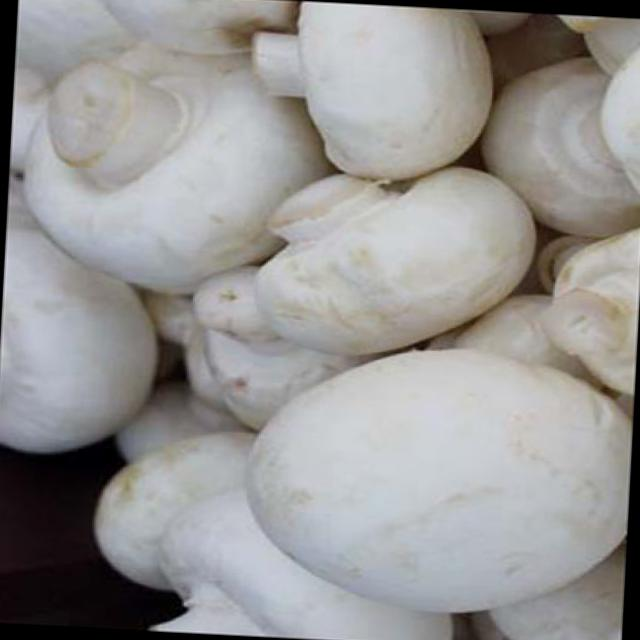Agaricus bisporus: (238, 342, 638, 624), (15, 36, 322, 292), (242, 156, 534, 363), (249, 0, 496, 182)
